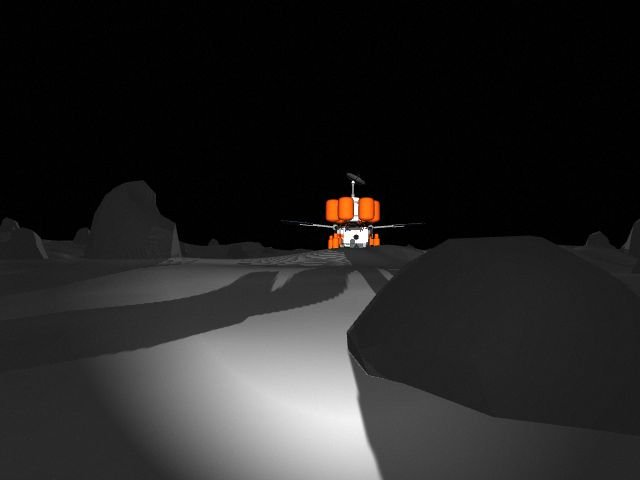homebase: (279, 170, 427, 260)
